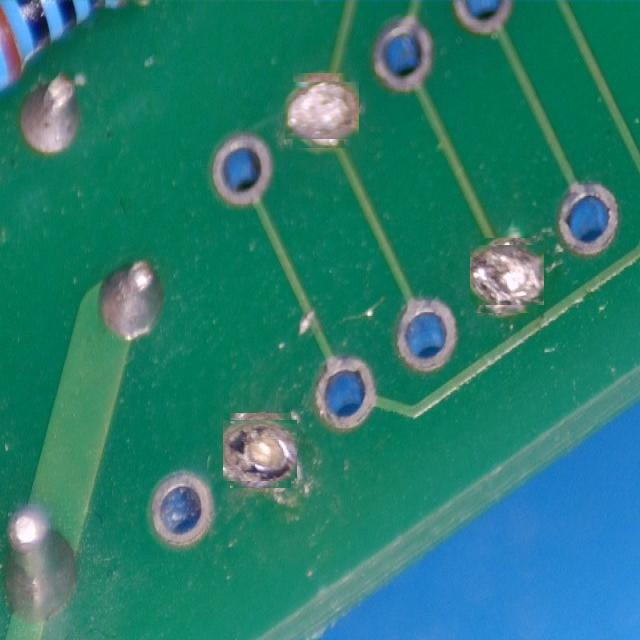Dry_joint: (224, 421, 297, 480), (470, 246, 544, 304), (284, 82, 359, 139)
